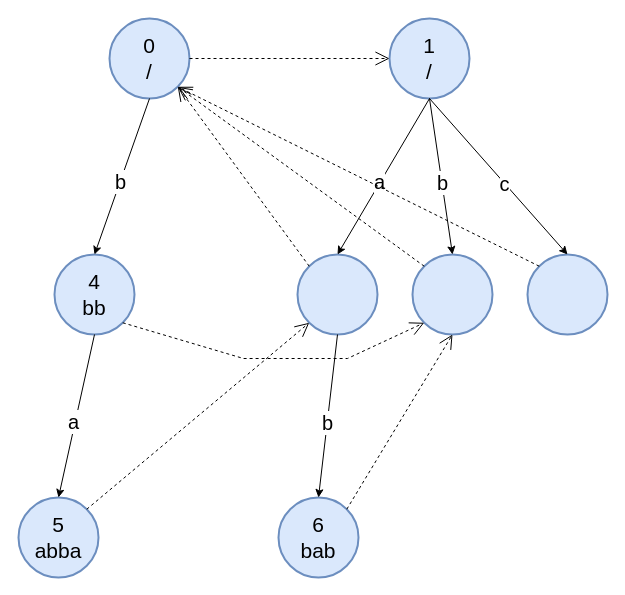
This 625x595 diagram has some shape labels left out. Here are the shapes that lost their labels. From the top down, the box of each, then its label:
(296, 253, 378, 335): 2 a
(411, 253, 493, 335): 3 b
(526, 253, 608, 335): 7 c
